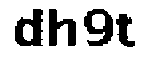9: (79, 7, 114, 50)
d: (10, 5, 45, 52)
h: (44, 3, 80, 53)
t: (115, 12, 141, 58)
